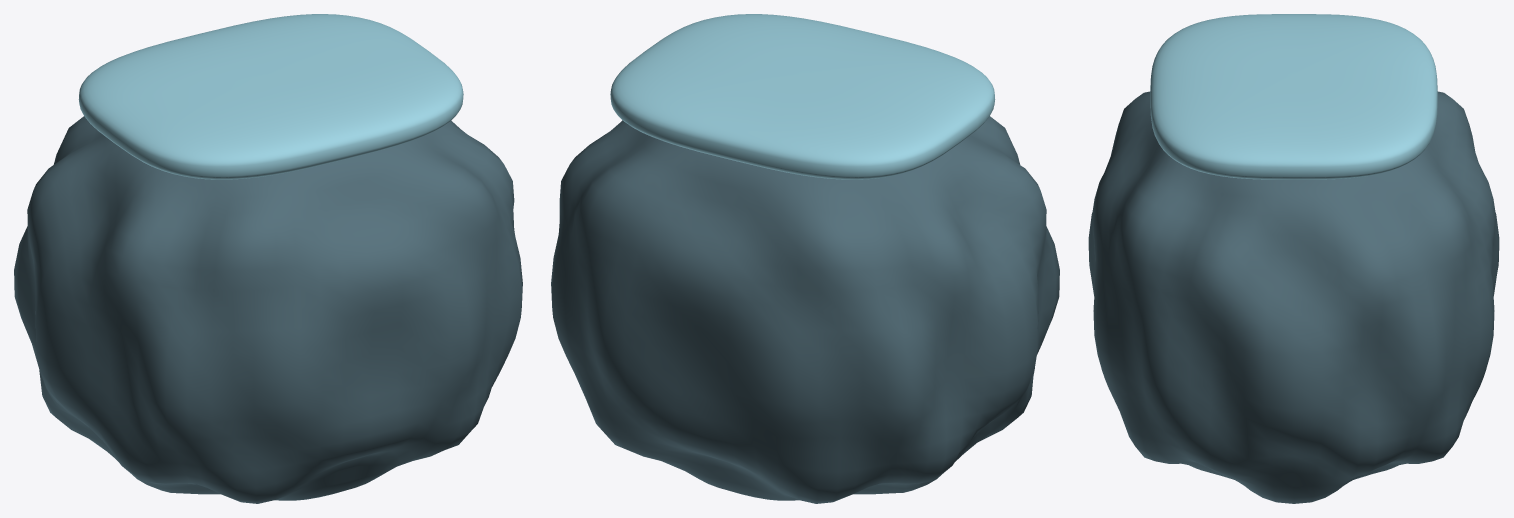
The picture shows the model from 3 angles, left to right: view 1: azimuth 30°, elevation 25°; view 2: azimuth 150°, elevation 25°; view 3: azimuth 270°, elevation 25°; orthographic projection. The views are drawn at different scales.
Visible parts, largest first — view 1: stone-17, pedestal-mount; view 2: stone-17, pedestal-mount; view 3: stone-17, pedestal-mount.
Boxes of the visible parts, <box> form: stone-17: <box>14,116,522,503</box>; pedestal-mount: <box>78,14,463,179</box>; stone-17: <box>551,116,1059,503</box>; pedestal-mount: <box>610,14,995,179</box>; stone-17: <box>1088,91,1499,503</box>; pedestal-mount: <box>1150,14,1437,179</box>.
Size of the model in its own units: 1.62 by 1.34 by 1.31.
